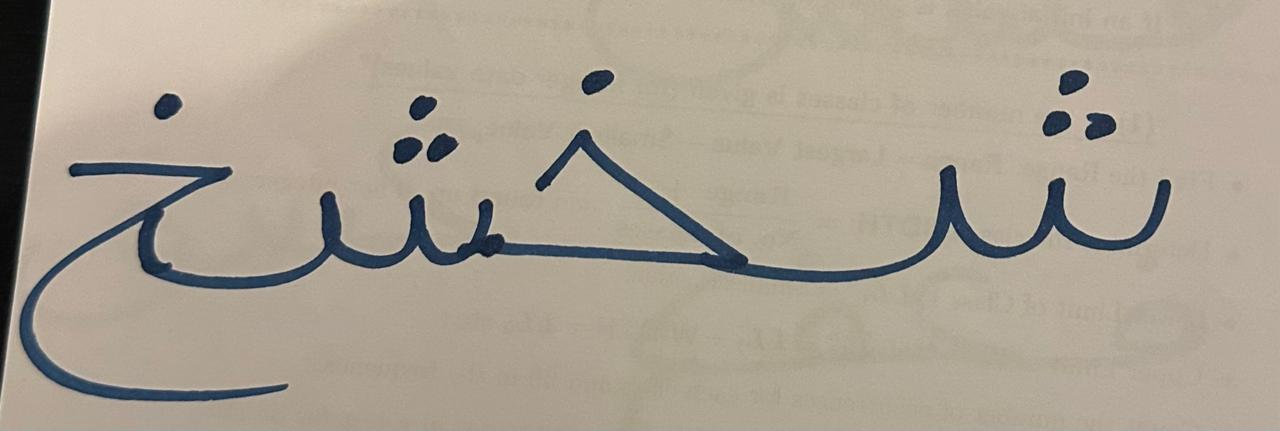lam: (521, 13, 801, 381), (31, 56, 265, 402)
tah: (812, 19, 1218, 336), (268, 13, 517, 329)
